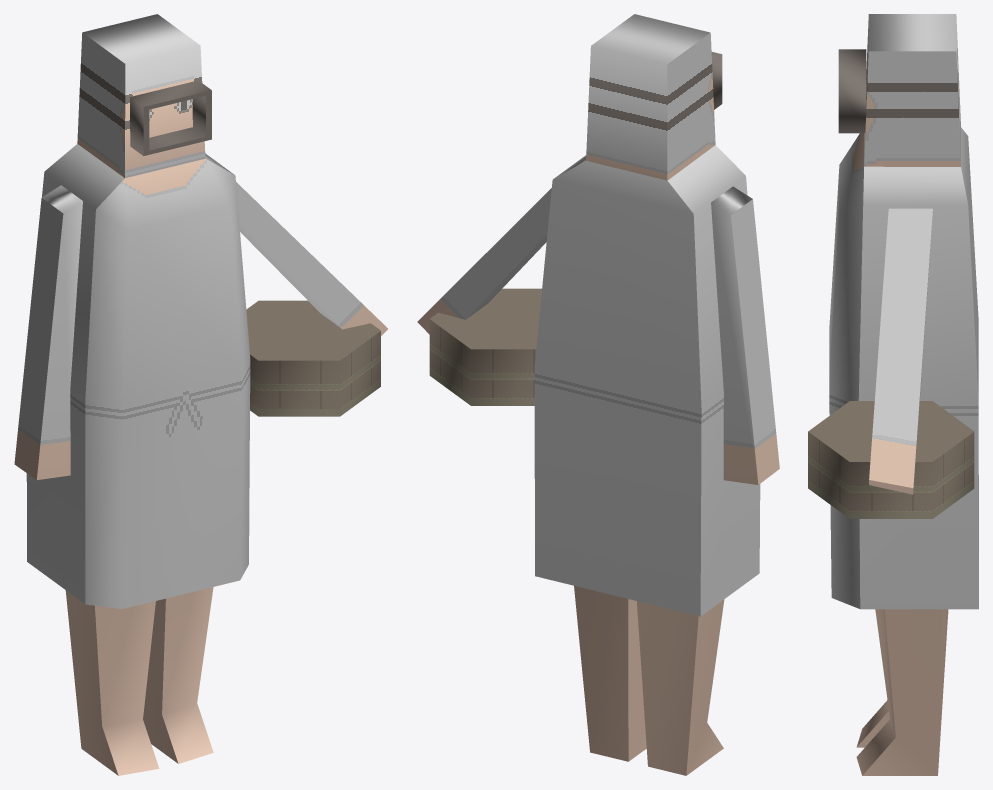
File: 0412_Abalone_Diver.glb
3 renders of one model, left to right at view 1: azimuth 30°, elevation 25°; view 2: azimuth 150°, elevation 25°; view 3: azimuth 270°, elevation 25°, orthographic.
Parts seen in each view (by area): view 1: part_0; view 2: part_0; view 3: part_0.
Boxes of the visible parts, <box> form: part_0: <box>14,14,387,775</box>; part_0: <box>417,14,779,775</box>; part_0: <box>808,14,978,775</box>.
Bounding box in the file's own units: 0.7418 × 1.44 × 0.3107.
1 material, 1 textured.
